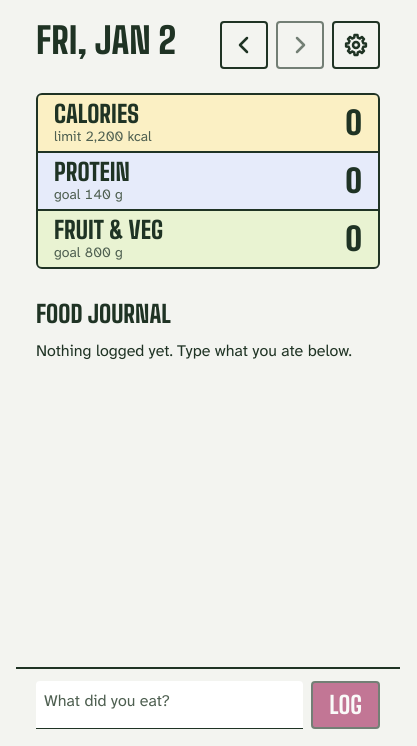
Today's header › adds the year for a day in a different year, and reads the full date
Click the button named "Previous day".
click(244, 45)  # box [220,21,268,69]
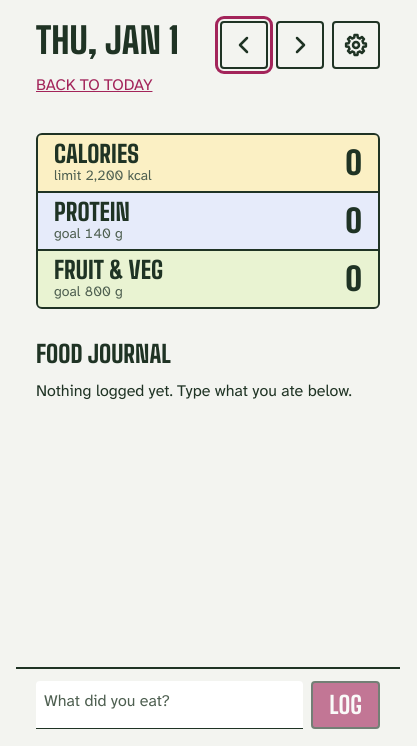
Click the button named "Previous day".
click(244, 45)  # box [220,21,268,69]
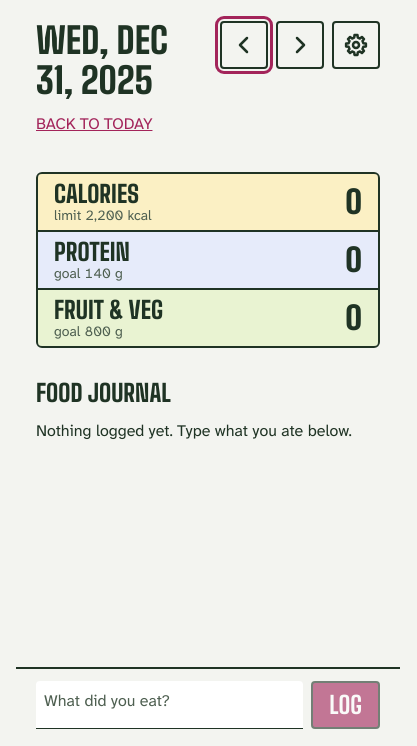
Click the button named "Previous day".
click(244, 45)  # box [220,21,268,69]
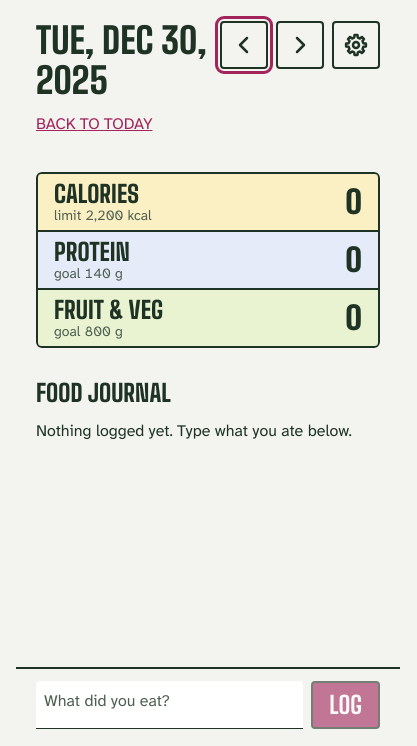
expect the heading named "Tuesday, December 30" is shown: met, box [36,21,212,100]
expect the text "Tue, Dec 30, 2025" is shown: met, box [36,19,207,102]
